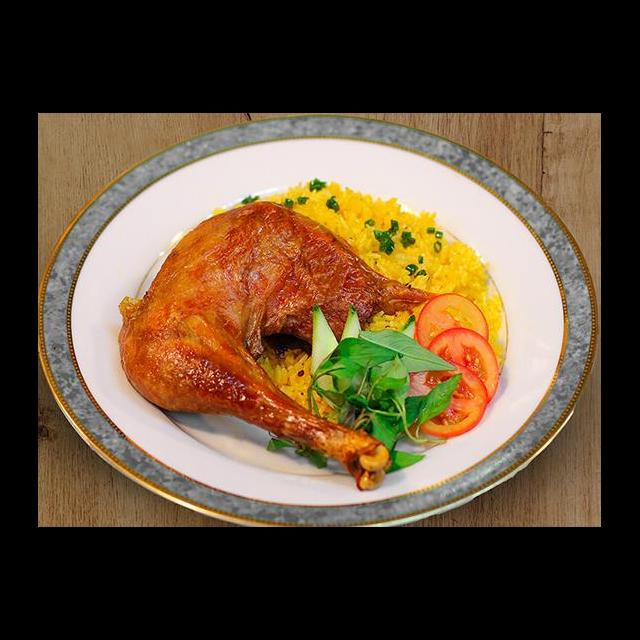com: (286, 176, 496, 299), (258, 340, 344, 425), (364, 297, 429, 339)
com ga: (39, 156, 552, 527)
rau ram: (304, 326, 466, 478)
thit ga: (112, 197, 440, 493)
